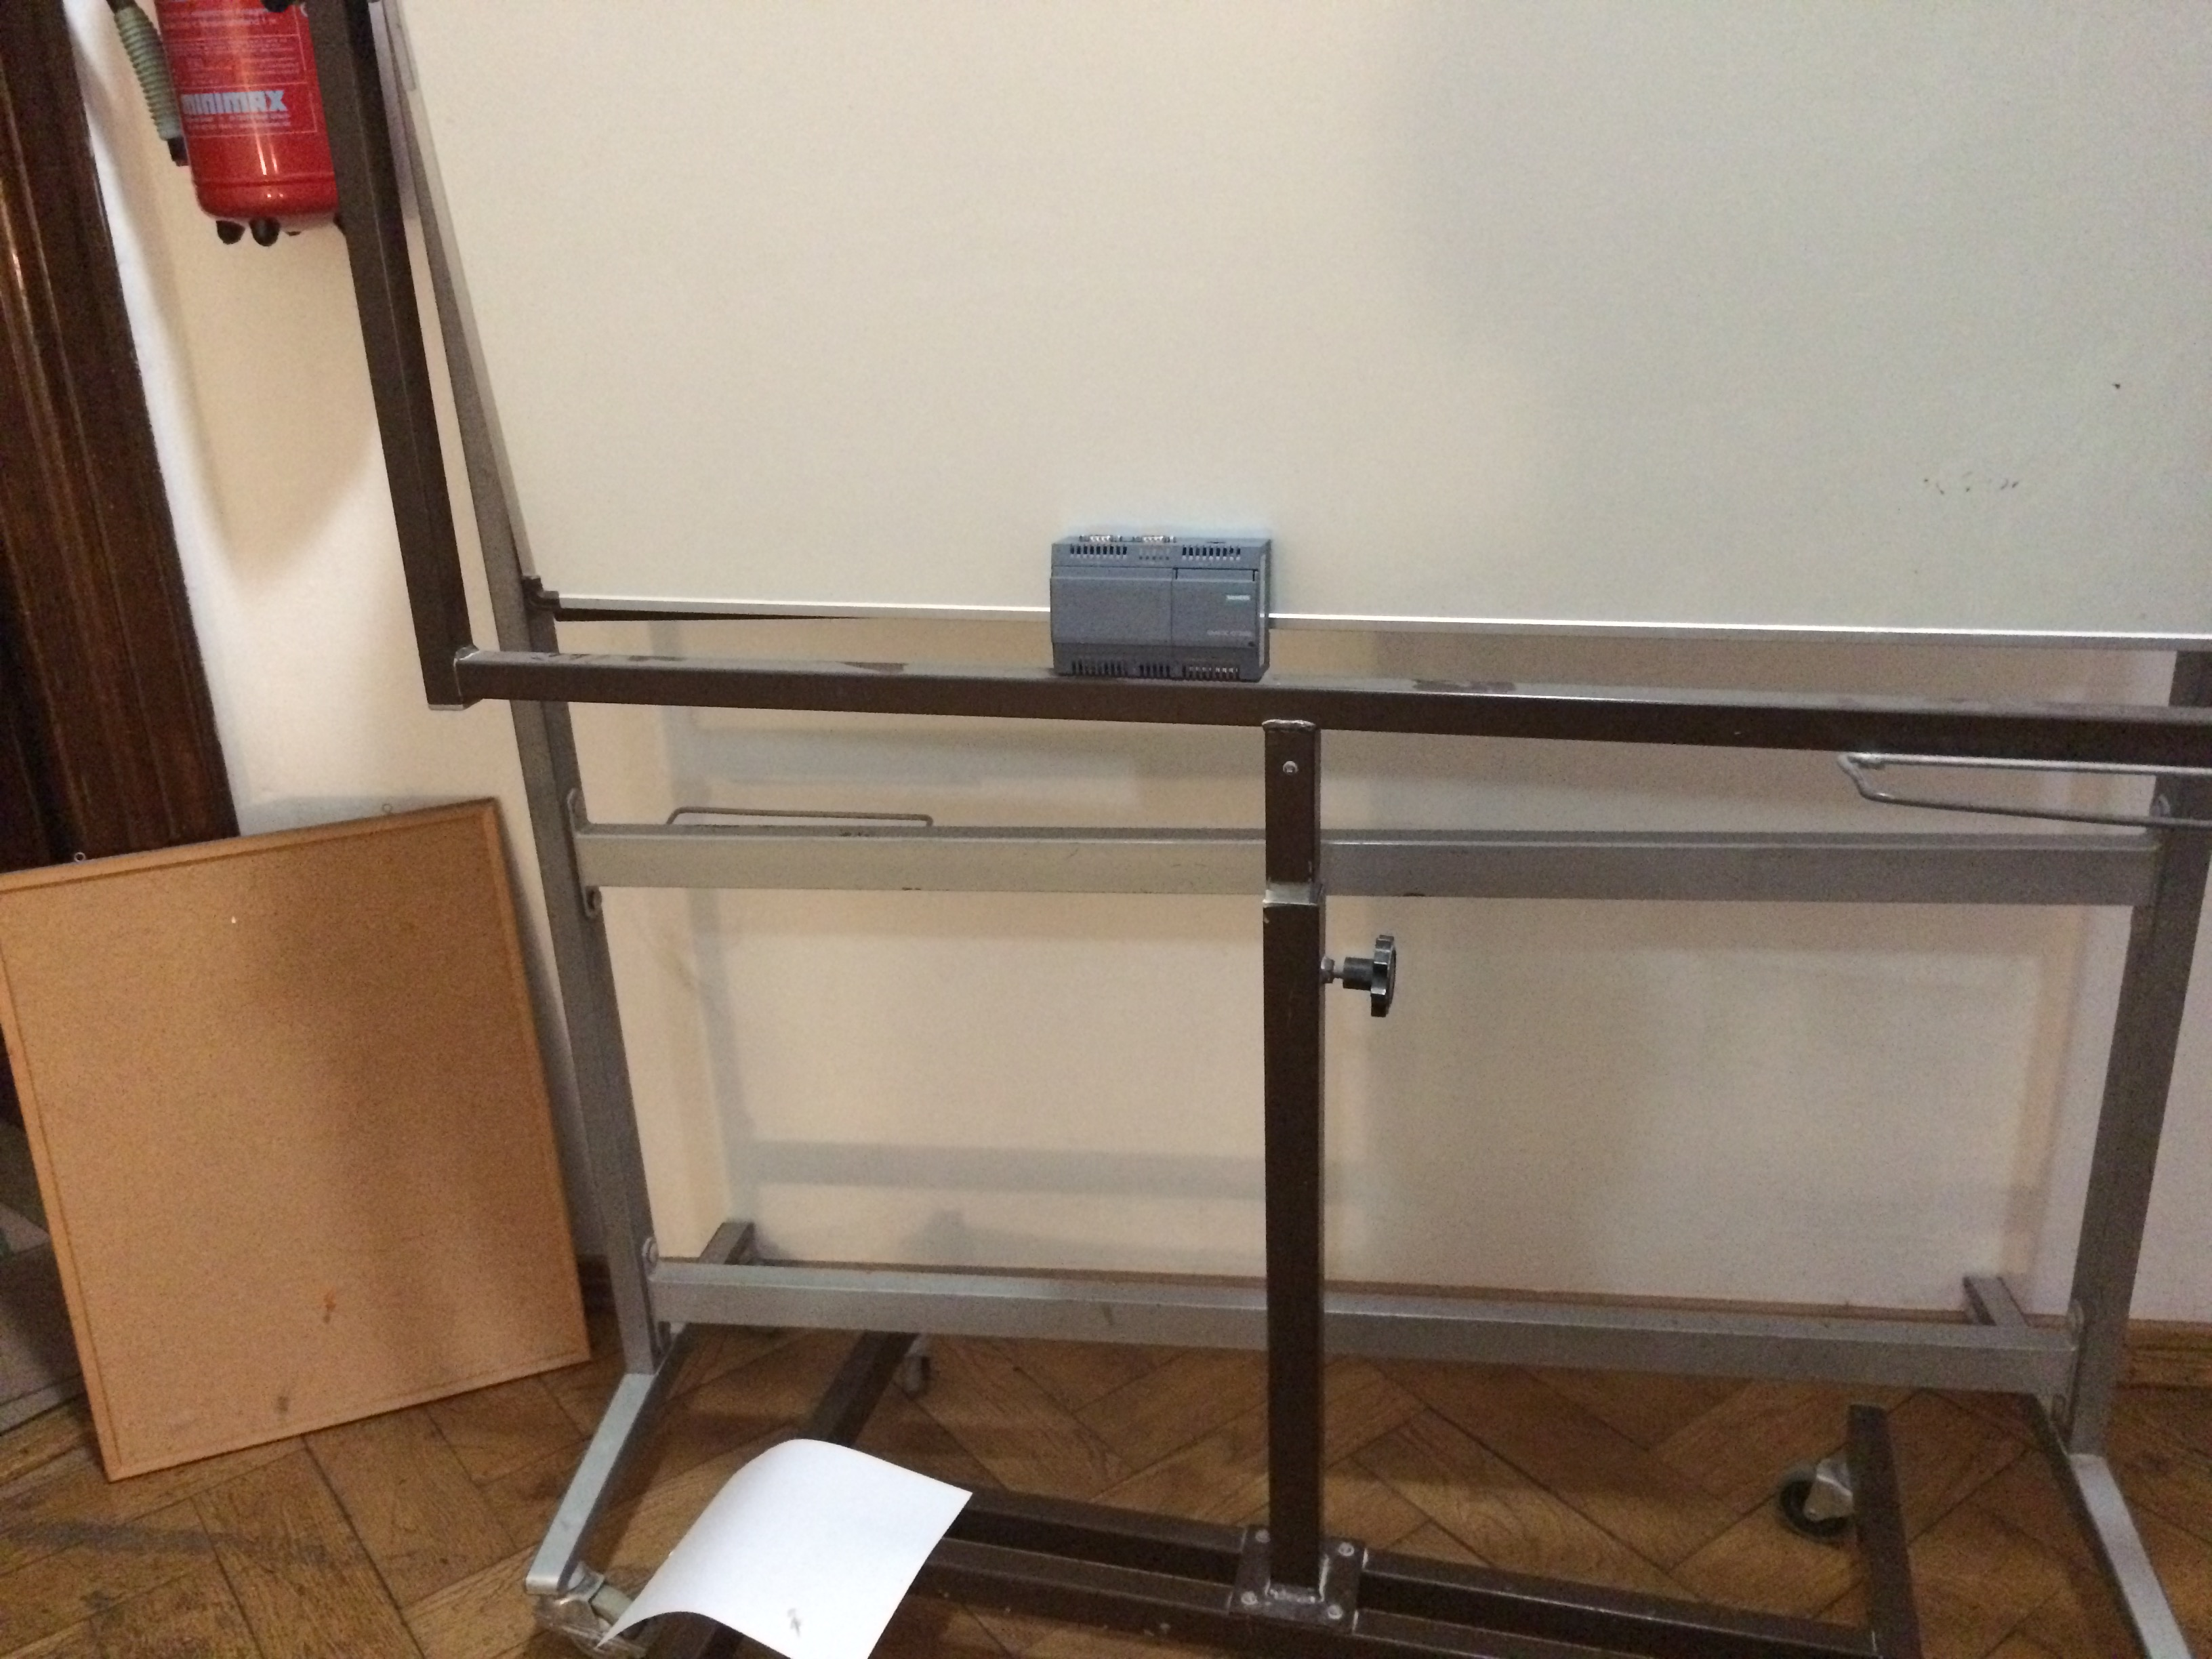iot2000: (1047, 528, 1275, 688)
